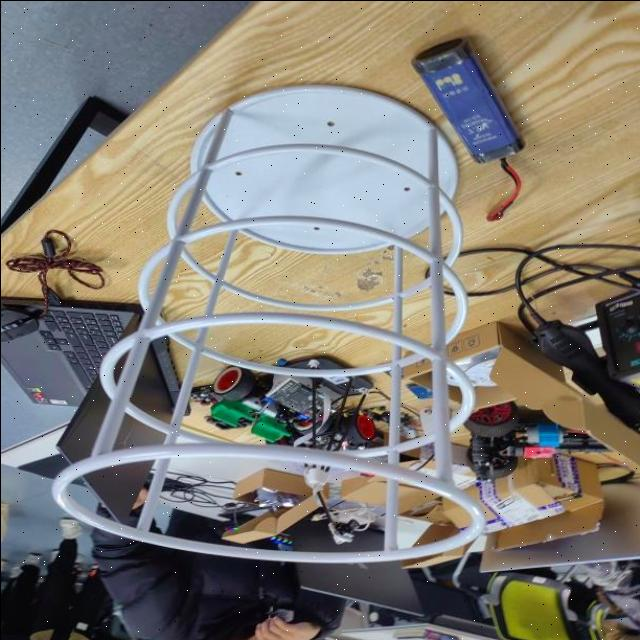S: (48, 78, 506, 568)
